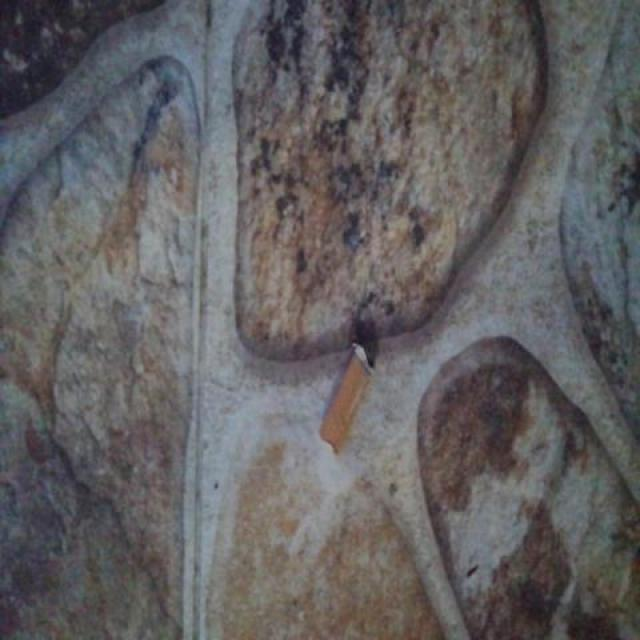non-organic waste: (314, 337, 381, 464)
